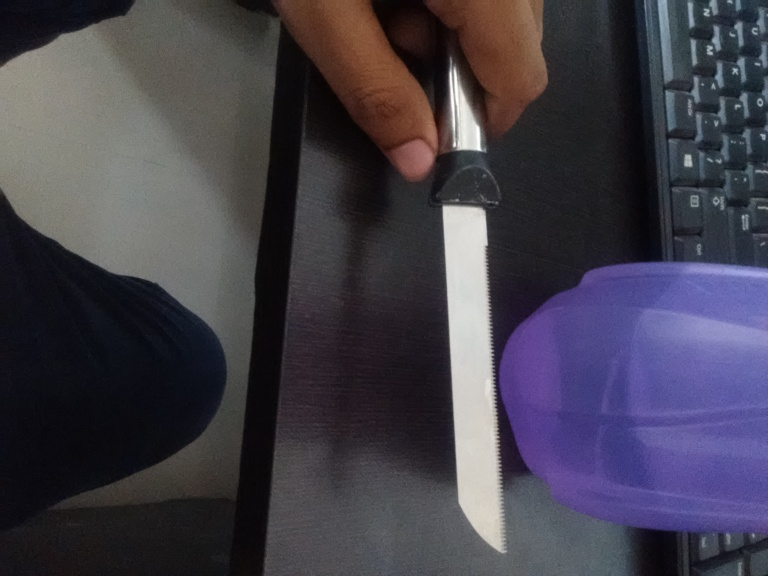knife: (431, 46, 508, 556)
